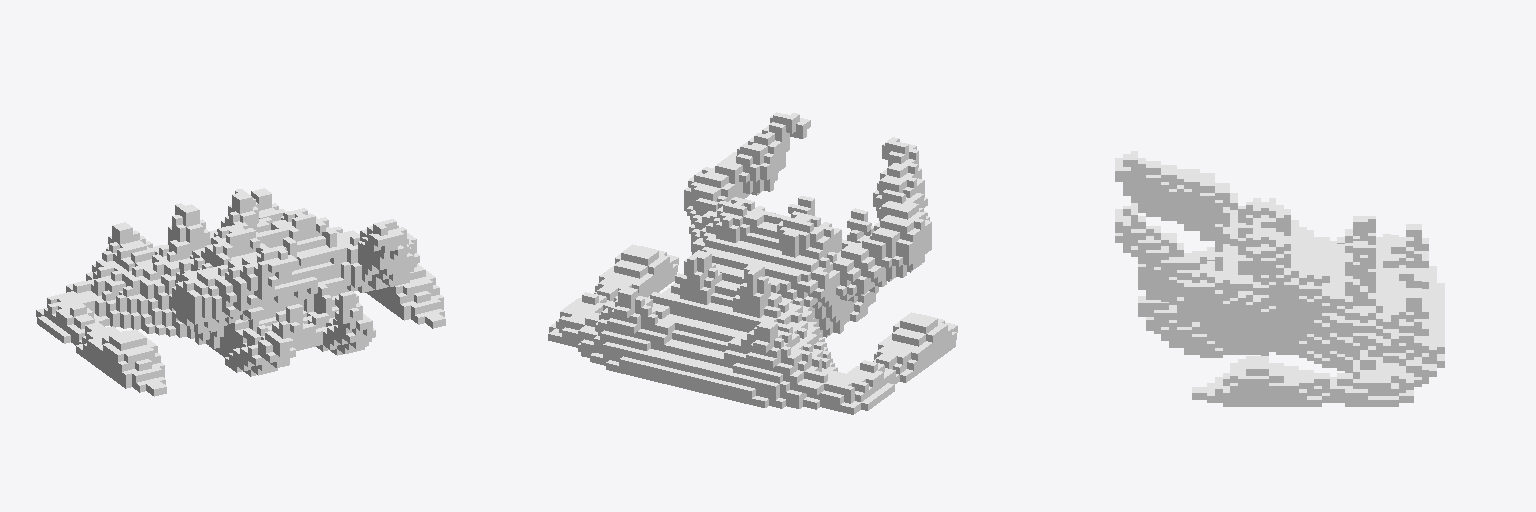
File: beetle_spawn_v1-1.obj
The picture shows the model from 3 angles: view 1: azimuth 30°, elevation 25°; view 2: azimuth 150°, elevation 25°; view 3: azimuth 270°, elevation 25°; orthographic projection.
Visible parts, largest first — view 1: object 1; view 2: object 1; view 3: object 1.
Boxes of the visible parts, x1=… form: object 1: x1=36, y1=188, x2=445, y2=396; object 1: x1=548, y1=112, x2=957, y2=414; object 1: x1=1115, y1=151, x2=1444, y2=406.
Bounding box in the file's own units: 4.8 × 2.1 × 4.3.